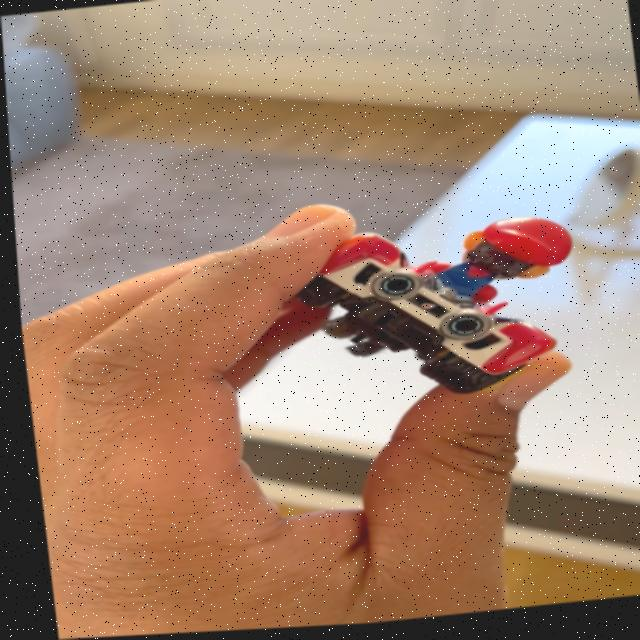mario: (279, 200, 599, 419)
